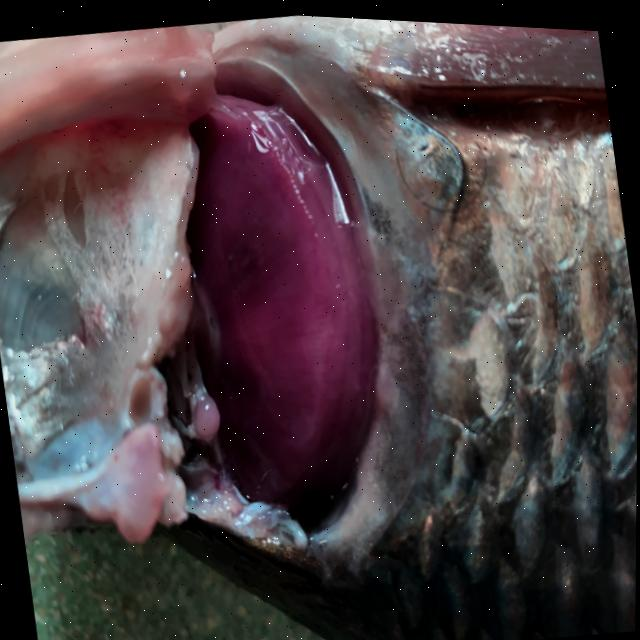Fresh: (76, 3, 457, 632)
